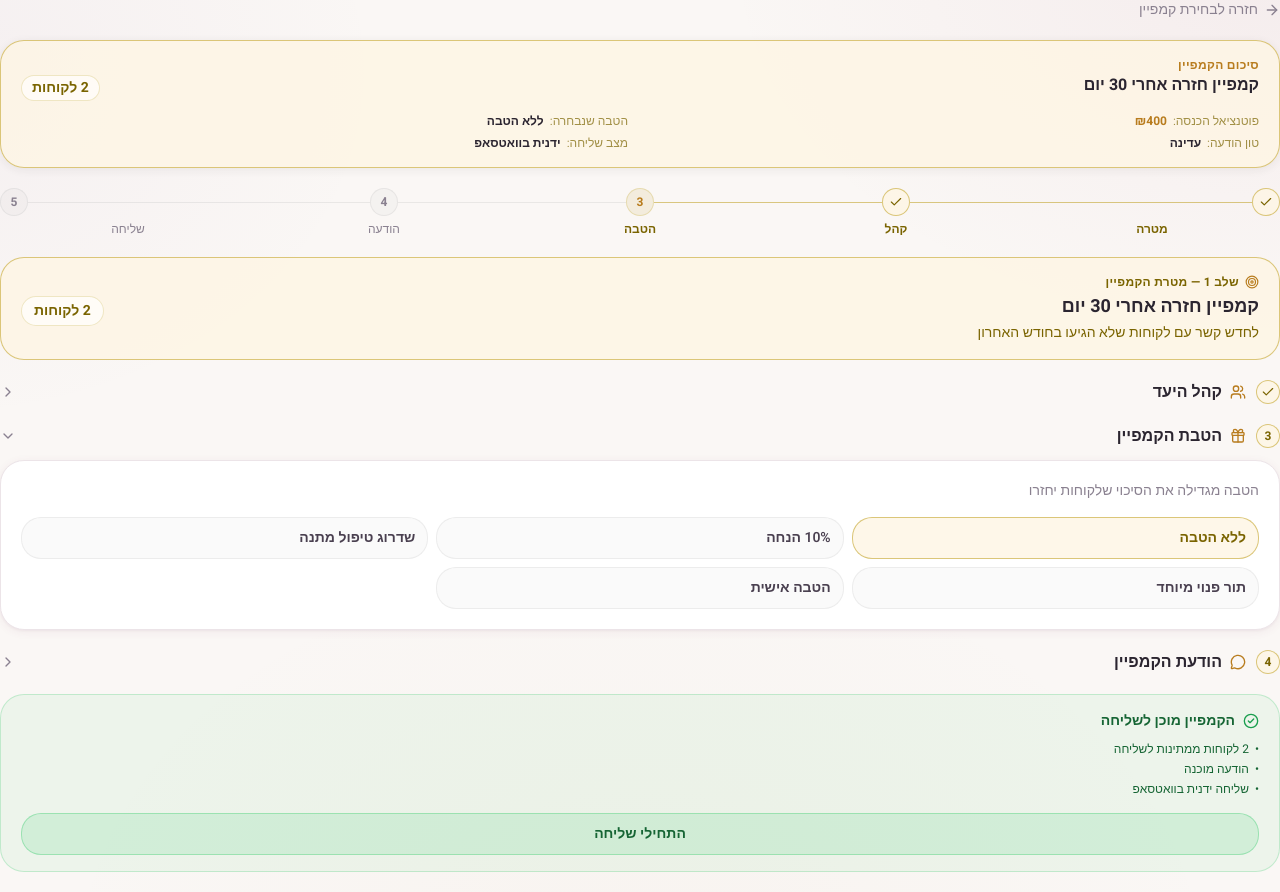
CampaignView — defaultCampaignType deep link › changing the tone updates the editable message template
Click the button "4 הודעת הקמפיין" at point(1168, 662), box x1=0 y1=650 x2=1279 y2=674
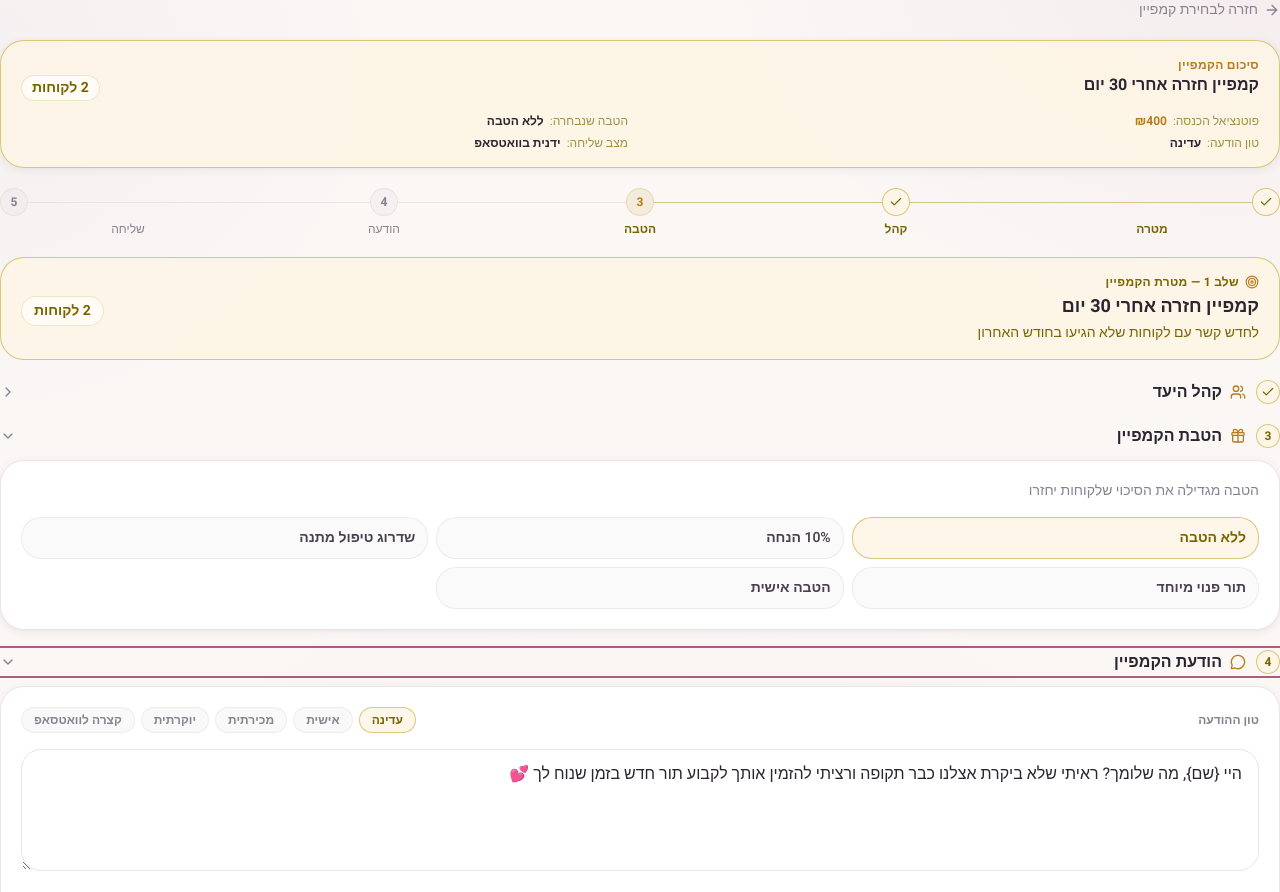
Note: tone chip "קצרה לוואטסאפ"
Click the button "קצרה לוואטסאפ" at point(78, 720), box x1=21 y1=706 x2=135 y2=732
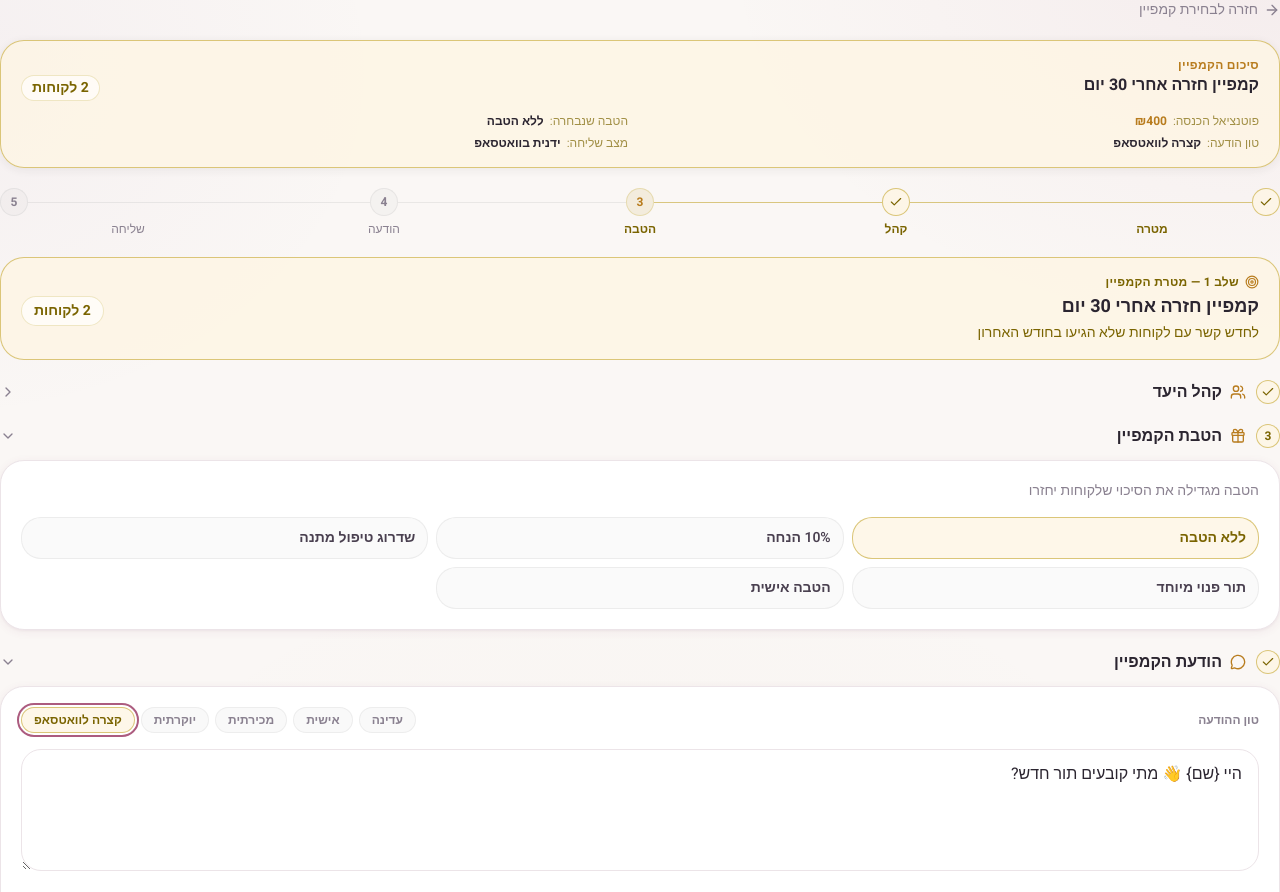
Now the text box does not hold "היי {שם}, מה שלומך? ראיתי שלא ביקרת אצלנו כבר תקופה ורציתי להזמין אותך לקבוע תור חדש בזמן שנוח לך 💕", box x1=21 y1=748 x2=1259 y2=870
